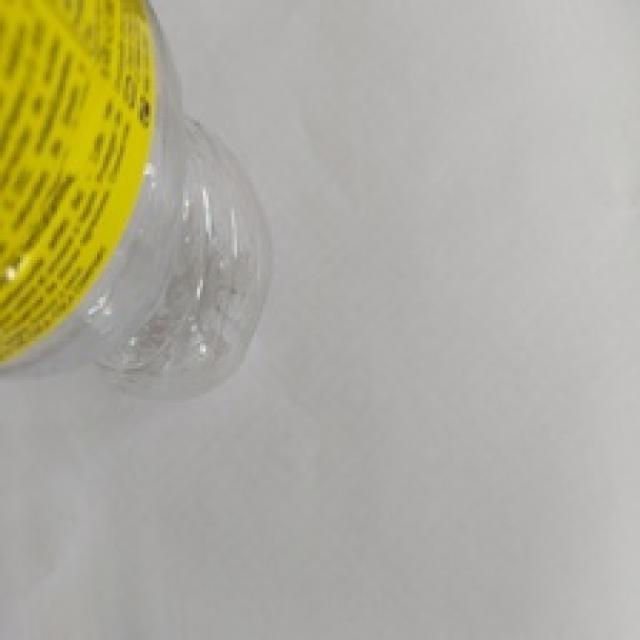Plastic: (0, 0, 281, 402)
